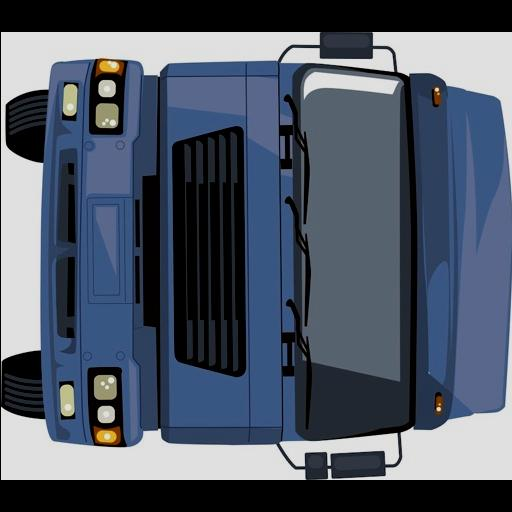truck: (2, 31, 512, 477)
